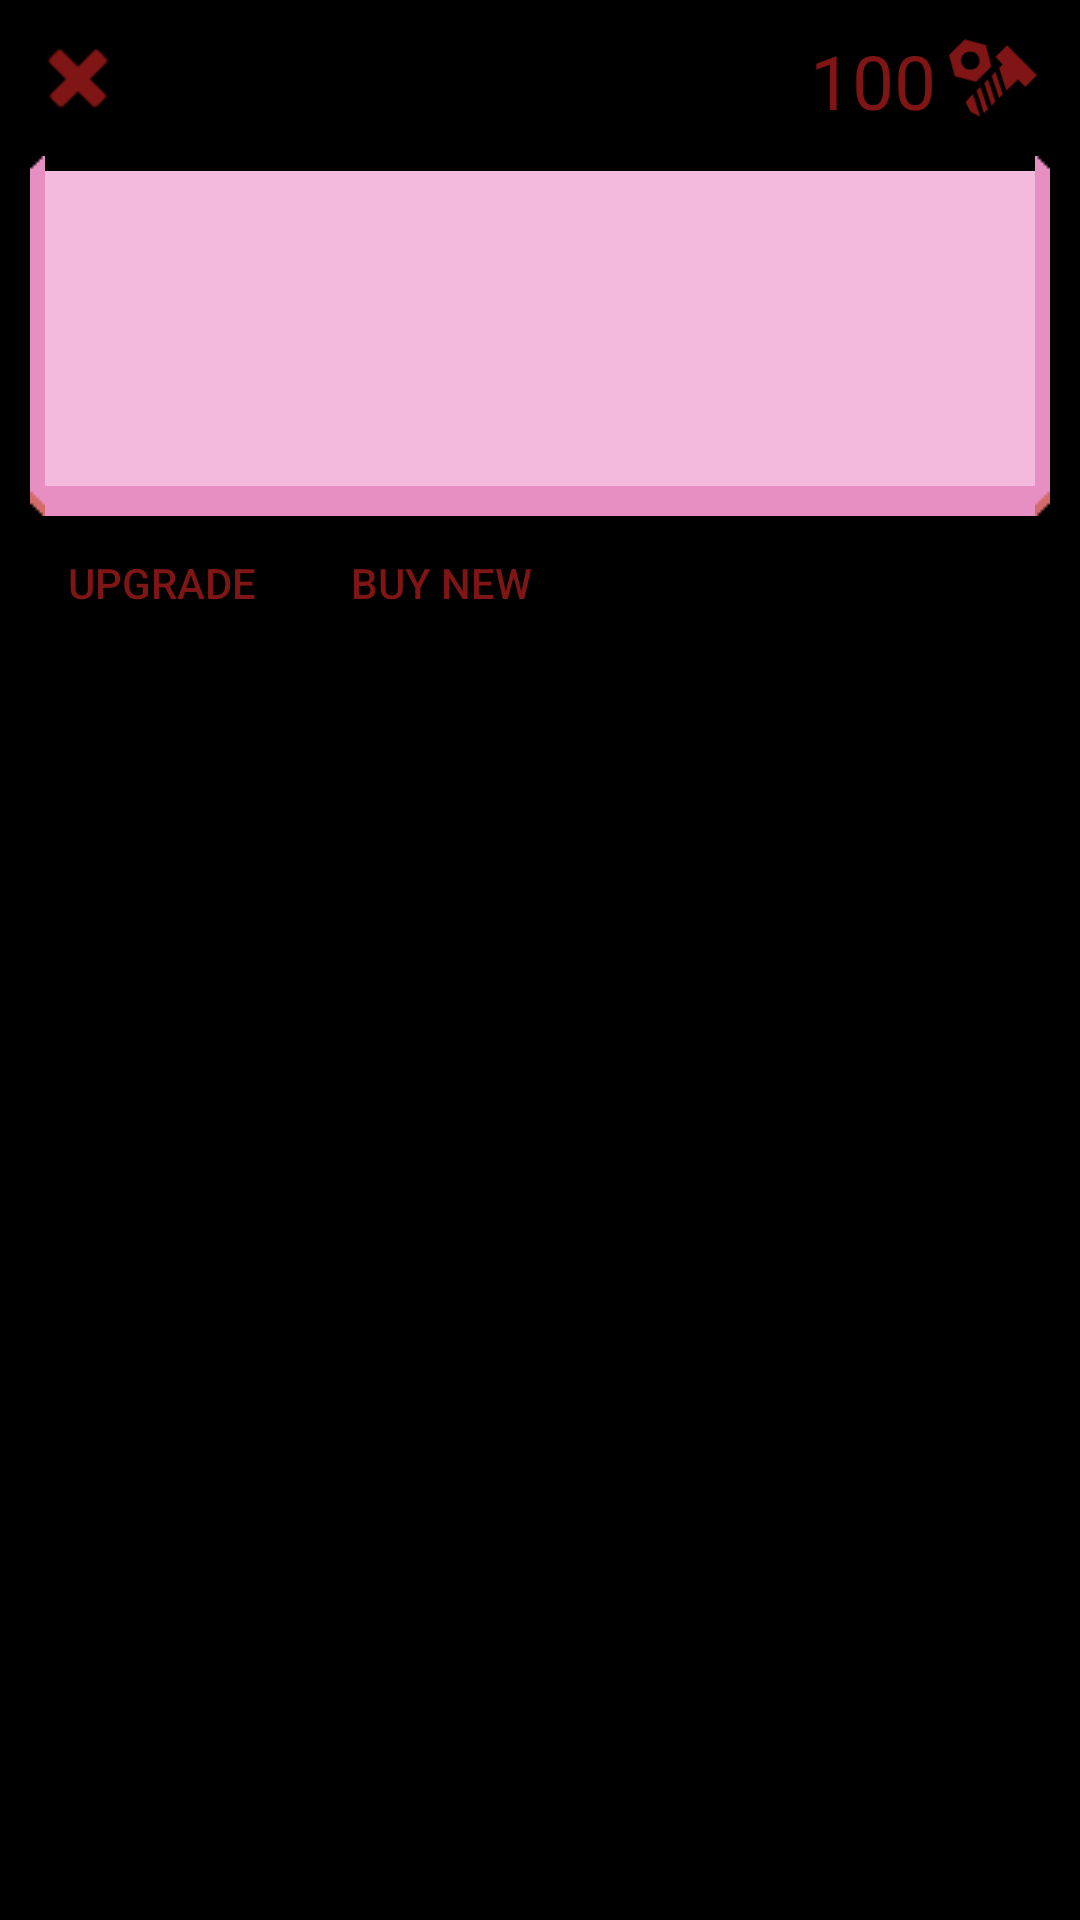

Icon click points for this 1080 x 1920 phone screenshot, format (x,y):
delete: (78,78)
scrap: (993,78)
